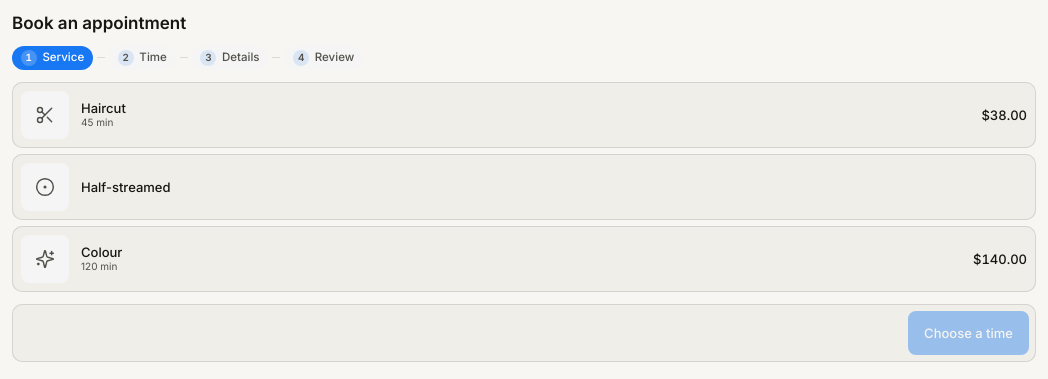
booking flow › lists services with a choice when there are several
Expected: the heading "Book an appointment" is shown, [12,13,186,33]
Expected: the button "Choose a time" is disabled, [908,311,1029,355]
Click the radio button labelled "Colour 120 min $140.00".
click(45, 259)  # box [12,226,1036,292]
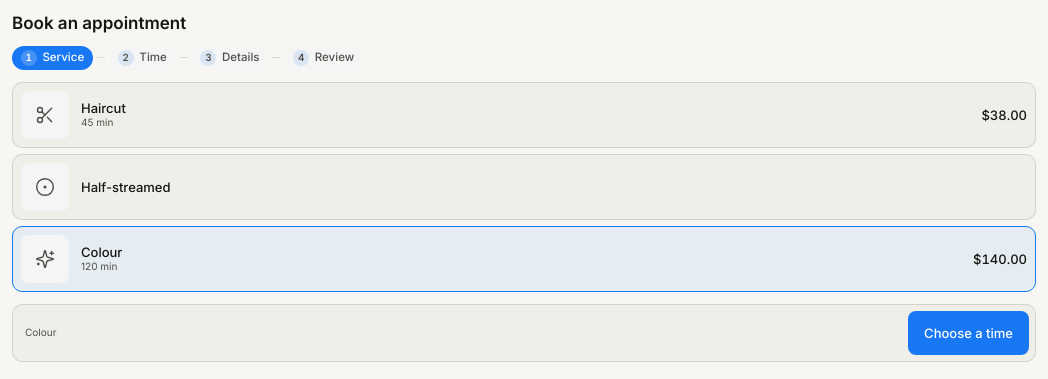
Expected: the text "$140.00" is shown, [973,251,1027,267]
Expected: the button "Choose a time" is enabled, [908,311,1029,355]
